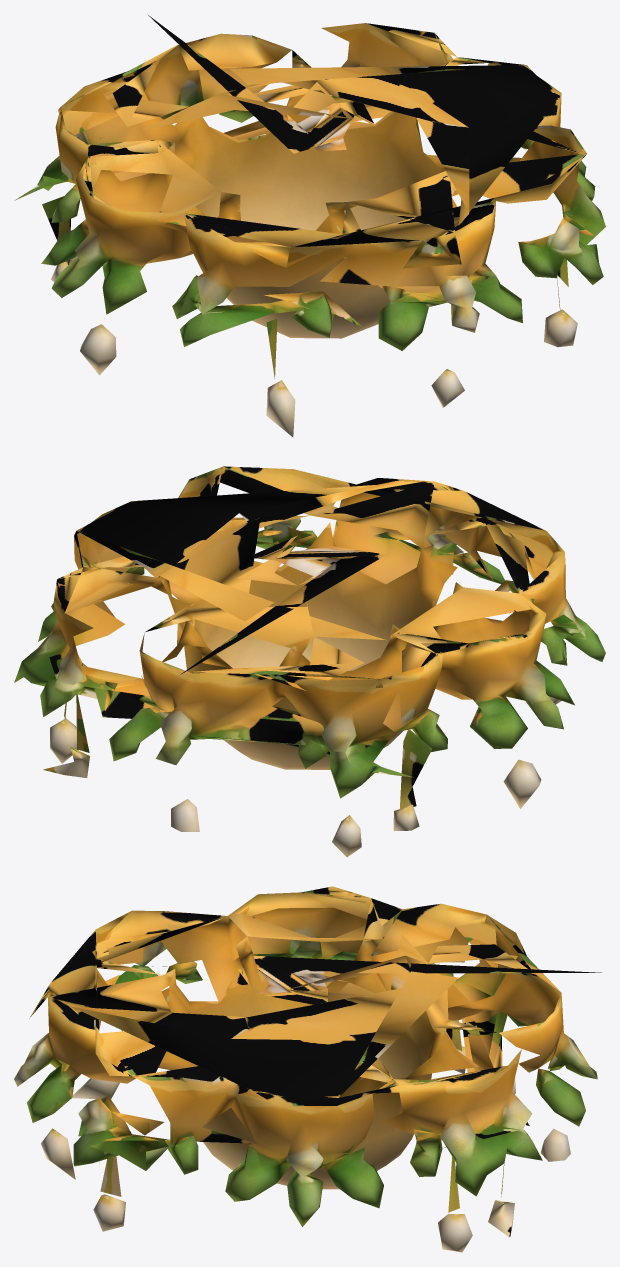
3 renders of one model, top to bottom at view 1: azimuth 30°, elevation 25°; view 2: azimuth 150°, elevation 25°; view 3: azimuth 270°, elevation 25°, orthographic. The views are drawn at different scales.
Parts seen in each view (by area): view 1: tripo_node_6a684d38; view 2: tripo_node_6a684d38; view 3: tripo_node_6a684d38.
Boxes of the visible parts, box(x1,y1,x2,y2) form: tripo_node_6a684d38: box(15, 15, 605, 437); tripo_node_6a684d38: box(14, 466, 605, 857); tripo_node_6a684d38: box(14, 886, 601, 1252).
Size of the model in its own units: 1 by 0.3699 by 0.9922.
1 material, 1 textured.
